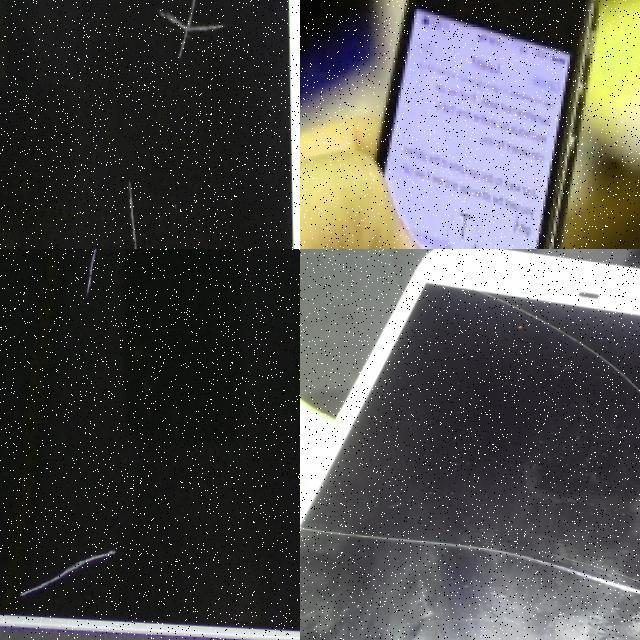scratch: (300, 509, 640, 629), (13, 536, 118, 608), (159, 0, 223, 59), (74, 249, 127, 298), (123, 176, 154, 249)
screen crack: (443, 268, 640, 477)
